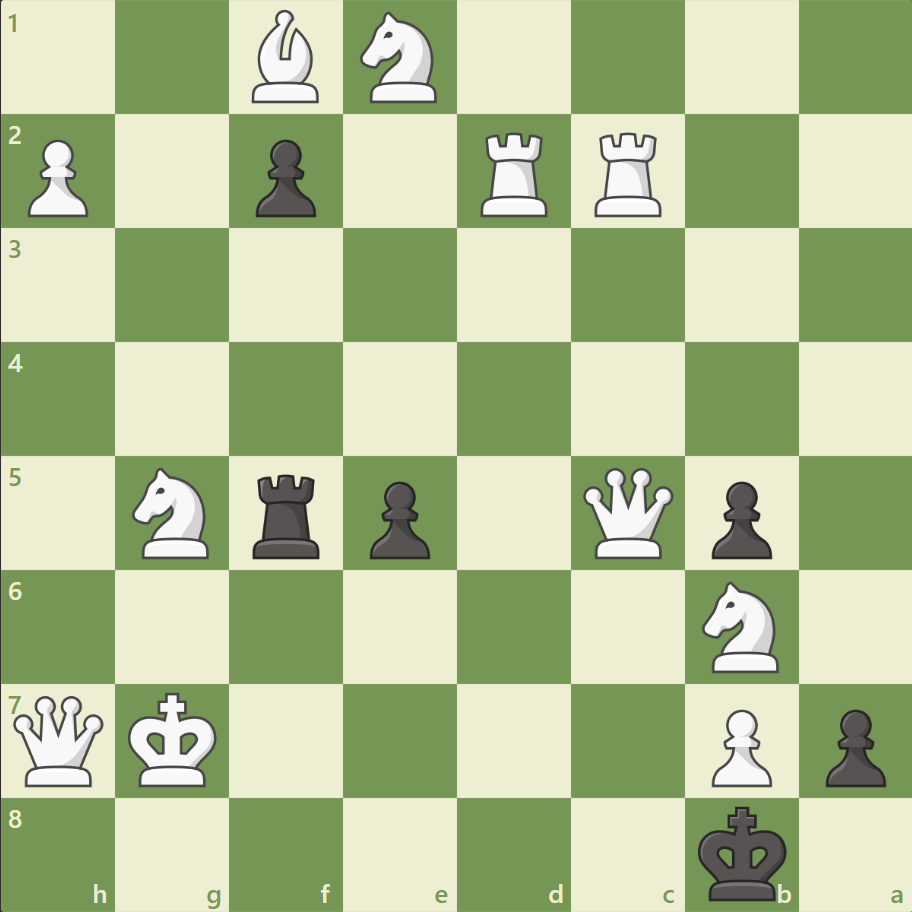B: (244, 6, 328, 109)
K: (124, 685, 224, 793)
N: (124, 461, 222, 564), (351, 7, 449, 110), (692, 575, 789, 677)
P: (701, 700, 776, 791), (20, 132, 95, 223)
Q: (10, 690, 109, 789), (578, 463, 677, 562)
R: (587, 125, 670, 222), (473, 125, 556, 222)
k: (692, 798, 792, 906)
p: (701, 473, 776, 564), (247, 132, 322, 223), (815, 700, 889, 791), (361, 473, 435, 564)
r: (246, 466, 329, 563)
